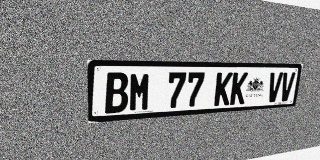7: (165, 72, 187, 109), (184, 72, 205, 108)
B: (105, 72, 129, 113)
K: (213, 72, 233, 106), (229, 72, 248, 105)
M: (128, 72, 151, 112)
V: (266, 72, 283, 102), (279, 72, 296, 102)
